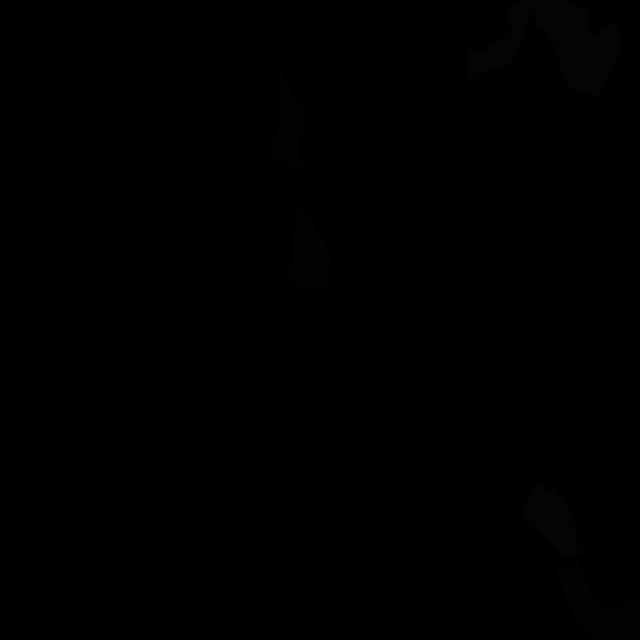cardboard: (552, 562, 640, 640), (269, 70, 306, 177), (290, 202, 332, 294)
soft_plastic: (468, 0, 620, 100), (522, 482, 584, 557)
